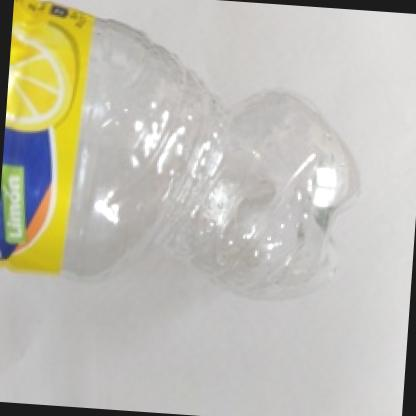plastic_bottles: (0, 0, 381, 296)
